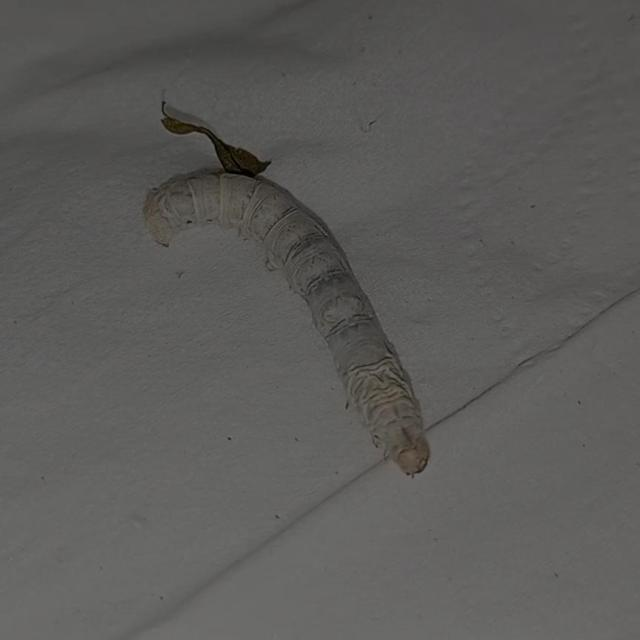Healthy: (136, 162, 452, 480)
